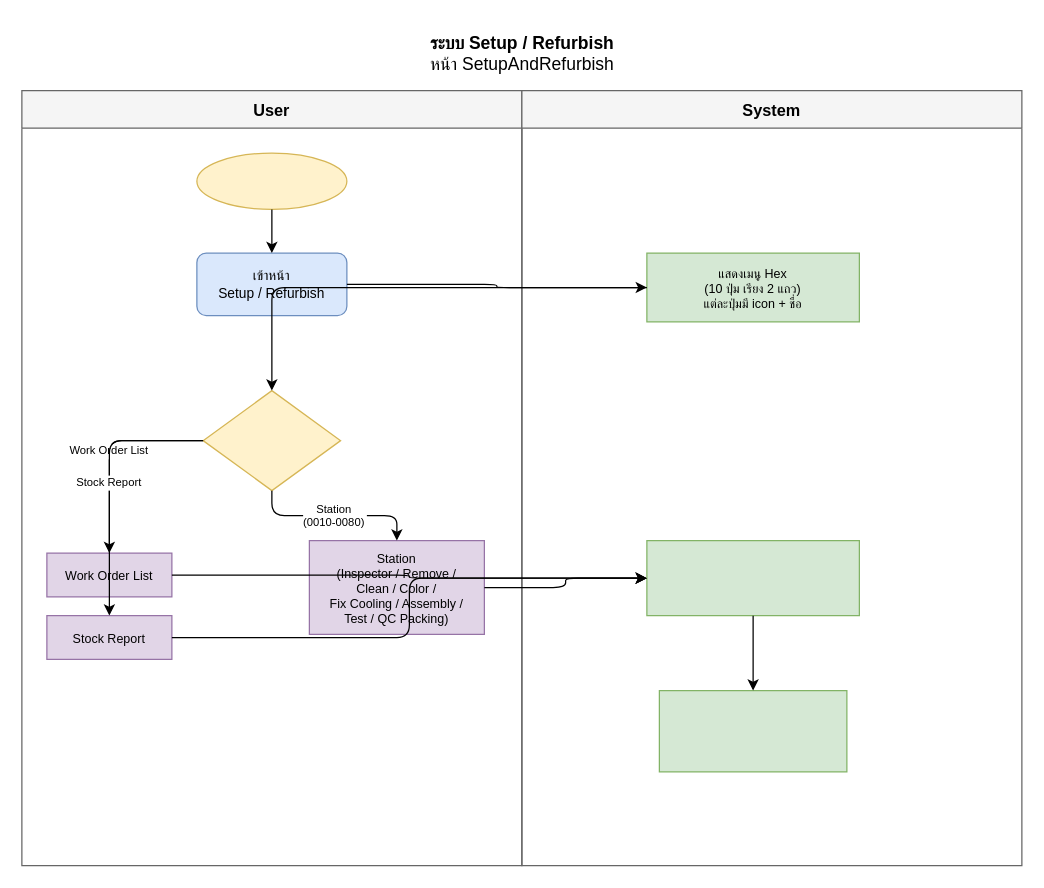
Image size: 1044x888. Some labels were removed from this diagram. The shapes that lost their labels are listed below. From the top down, each one's centre as x and y in pixels, then its label:
At point (271, 180): "เริ่มต้น".
At point (271, 440): "เลือก Station?".
At point (752, 577): "navigate → /DashboardRefurbish พร้อม state = step (title, station, type)".
At point (752, 730): "หน้า DashboardRefurbish (แสดง Work Order ตาม Station ที่เลือก)".
